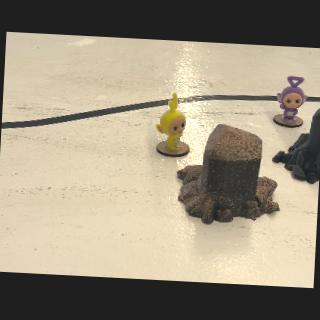teletubby: (156, 93, 186, 150), (277, 76, 307, 120)
